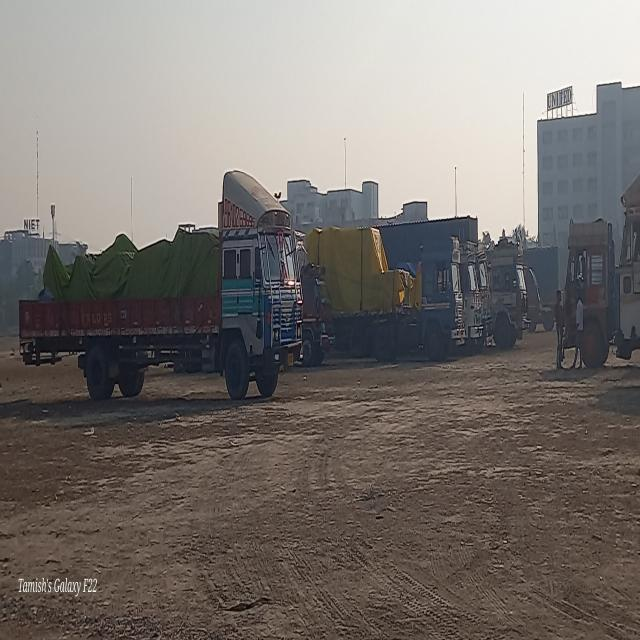covered: (16, 218, 297, 388), (312, 220, 468, 330)
